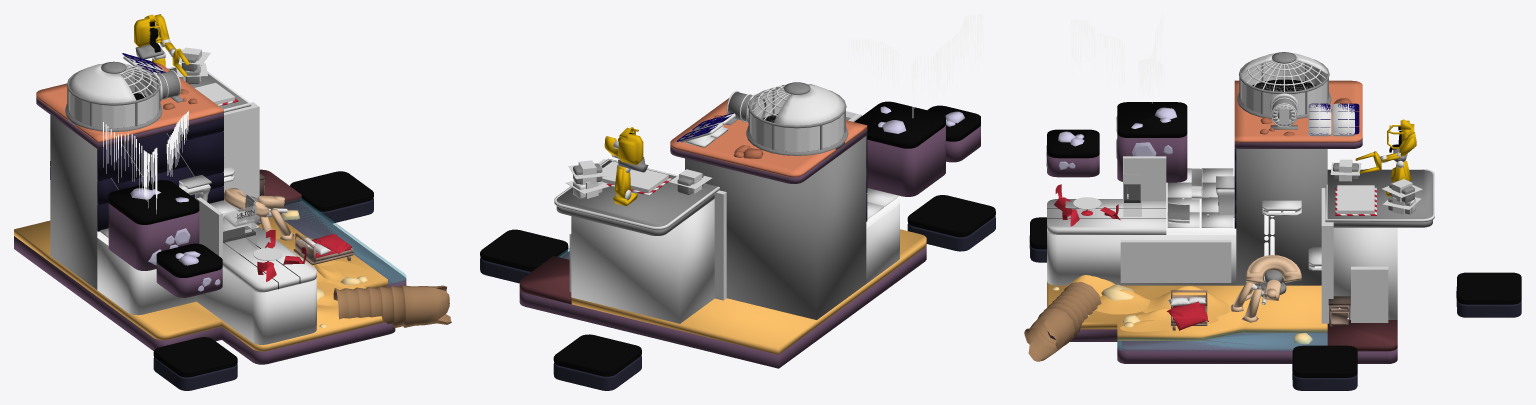
3 views of the same model, side by side, from view 1: azimuth 30°, elevation 25°; view 2: azimuth 150°, elevation 25°; view 3: azimuth 270°, elevation 25° (orthographic). The views are drawn at different scales.
Parts seen in each view (by area): view 1: Plane.006, Plane, Plane.008, Plane.085, Plane.002, Circle.007, Plane.100, Plane.011, Plane.005, Cube.037, Plane.103, Plane.088 (+24 smaller); view 2: Plane.008, Plane.004, Plane.002, Plane, Plane.011, Plane.102, Vert.006, Plane.088, Plane.100, Plane.049, Plane.103, Plane.012 (+19 smaller); view 3: Plane.008, Plane.002, Plane, Plane.032, Plane.006, Plane.004, Plane.005, Plane.017, Circle.007, Plane.088, Plane.103, Plane.102 (+33 smaller).
Part boxes in pixels (<box>): Plane.006: <box>97,238,316,344</box>; Plane: <box>14,201,406,364</box>; Plane.008: <box>50,115,194,289</box>; Plane.085: <box>97,119,223,231</box>; Plane.002: <box>14,216,387,351</box>; Circle.007: <box>333,285,451,327</box>; Plane.100: <box>153,337,237,390</box>; Plane.011: <box>108,203,199,270</box>; Plane.005: <box>222,227,316,292</box>; Cube.037: <box>223,102,259,210</box>; Plane.103: <box>290,171,373,223</box>; Plane.088: <box>36,63,223,142</box>; Plane.008: <box>685,136,866,319</box>; Plane.004: <box>571,199,714,323</box>; Plane.002: <box>571,229,926,354</box>; Plane: <box>519,246,926,368</box>; Plane.011: <box>866,125,945,196</box>; Plane.102: <box>553,334,641,390</box>; Vert.006: <box>848,14,983,117</box>; Plane.088: <box>670,98,867,177</box>; Plane.100: <box>907,195,995,251</box>; Plane.049: <box>556,160,717,226</box>; Plane.103: <box>480,229,568,283</box>; Plane.012: <box>854,101,945,148</box>; Plane.008: <box>1236,149,1327,285</box>; Plane.002: <box>1047,281,1327,340</box>; Plane: <box>1047,329,1397,363</box>; Plane.032: <box>1120,240,1231,282</box>; Plane.006: <box>1047,231,1236,285</box>; Plane.004: <box>1333,227,1397,319</box>; Plane.005: <box>1047,199,1166,234</box>; Plane.017: <box>1117,329,1327,350</box>; Circle.007: <box>1024,282,1101,361</box>; Plane.088: <box>1234,80,1362,142</box>; Plane.103: <box>1292,345,1357,390</box>; Plane.102: <box>1456,272,1521,317</box>.
Size of what is drawn, in the model's own units: 10.9 by 7.3 by 14.19.
